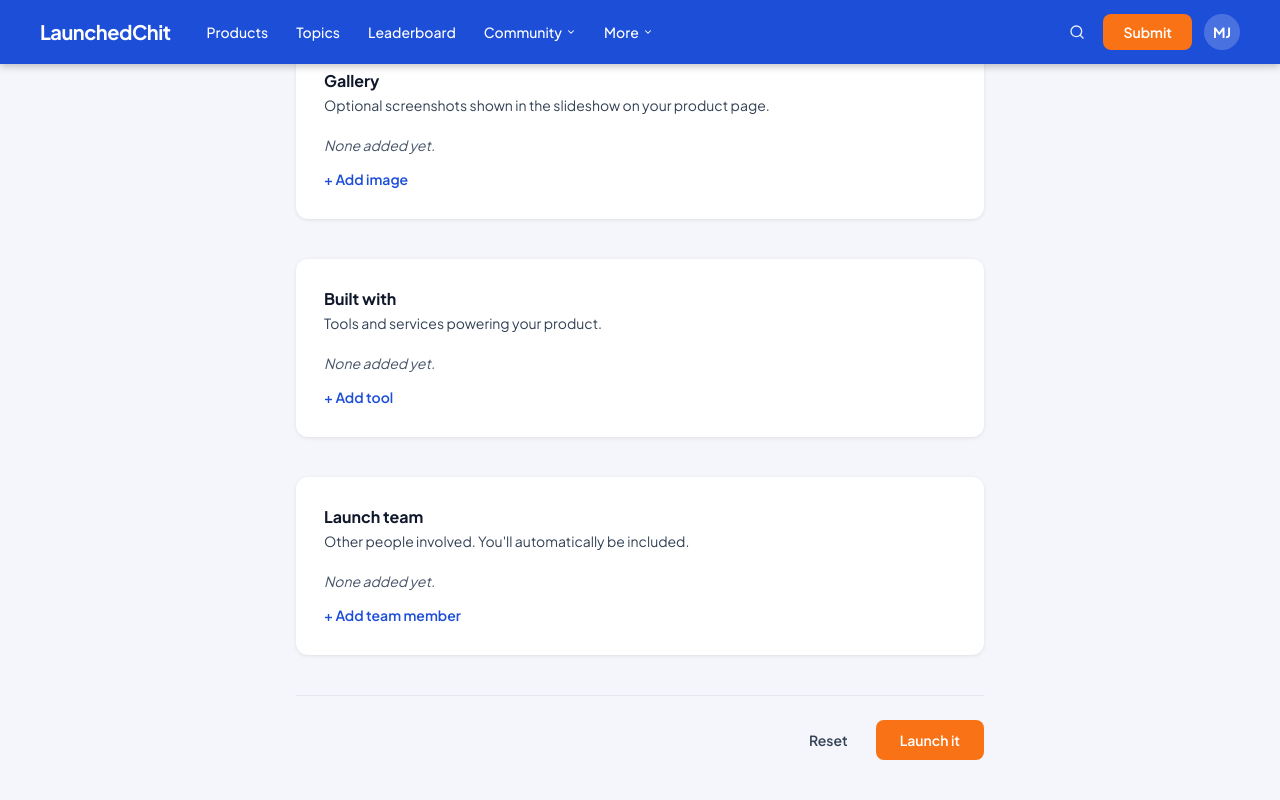
SubmitPage › shows errors when submitting empty form
(page scrolled)
Click the button "Launch it".
click(930, 740)  # box [876,720,984,760]
(page scrolled)
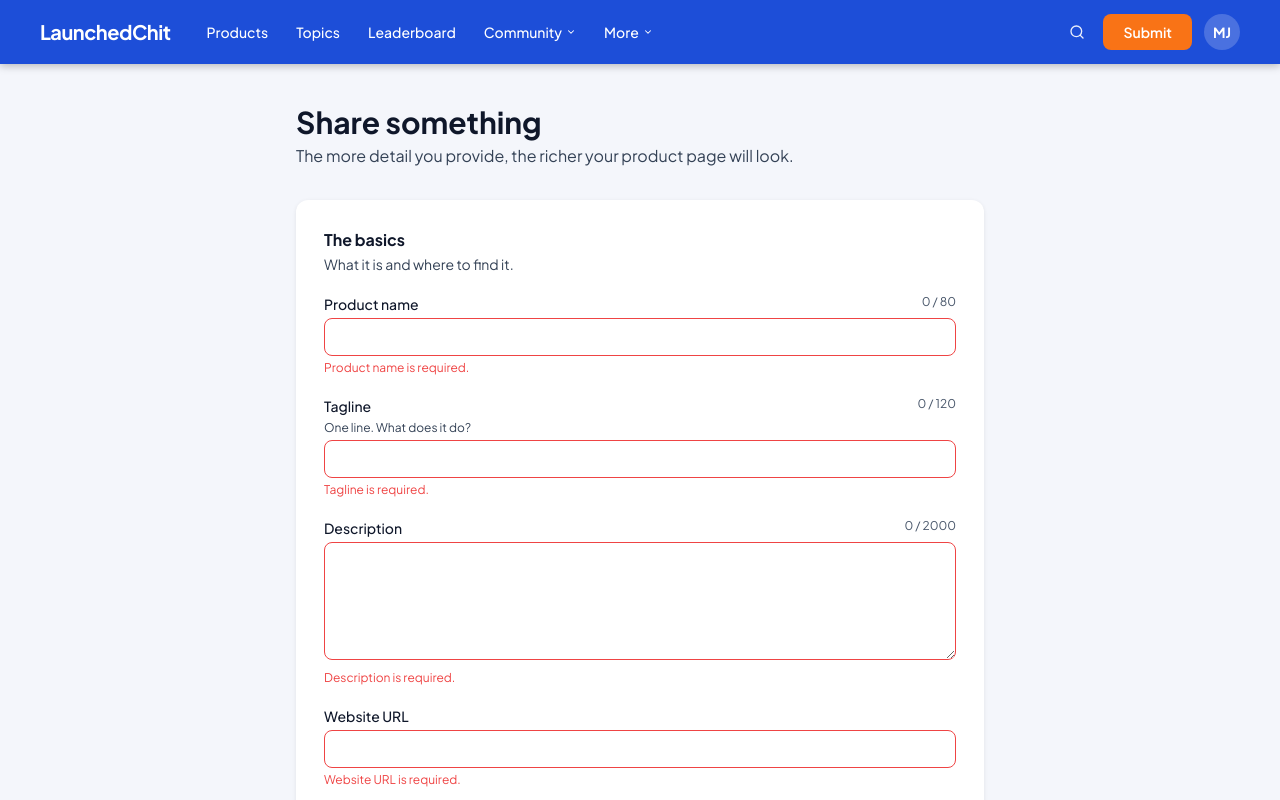
Check: the message "Product name is required." is shown, box [324,360,469,375]
